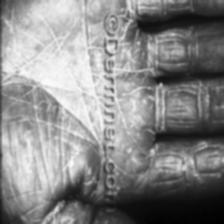Toxin: (32, 175, 79, 224), (150, 83, 170, 145)
